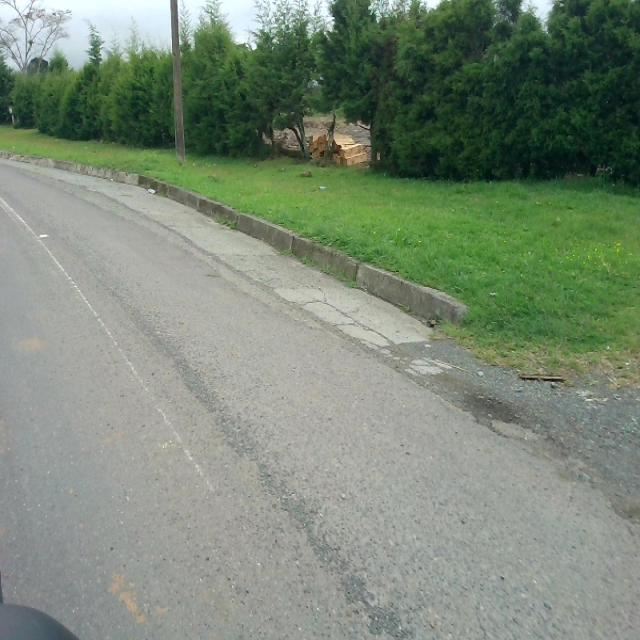DITCH: (1, 131, 638, 638), (1, 150, 638, 638)
